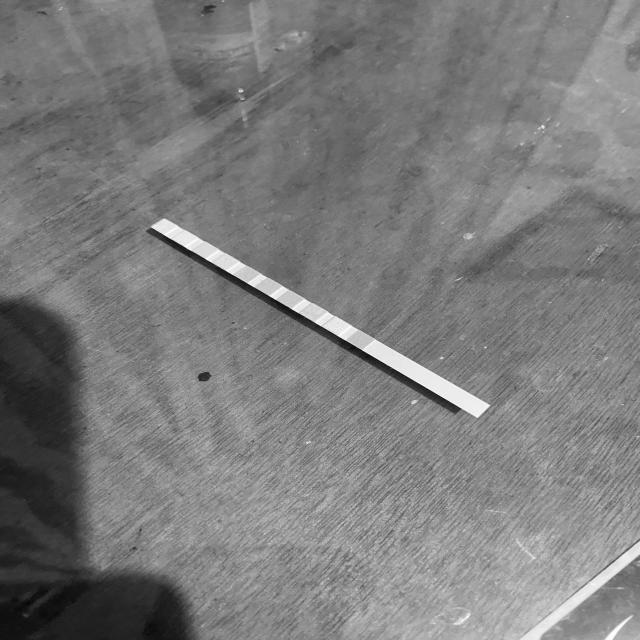Bilirubin: (329, 322, 344, 331)
Blood: (261, 282, 277, 290)
Glucose: (355, 335, 367, 345)
Ketone: (306, 308, 322, 316)
Leukocytes: (158, 223, 172, 231)
Nitrite: (179, 235, 192, 242)
Protein: (220, 258, 233, 266)
SpGravity: (283, 296, 299, 304)
Urobilinogen: (198, 246, 213, 254)
background: (0, 0, 640, 640)
pH: (240, 270, 255, 278)
strip: (151, 219, 491, 417)
